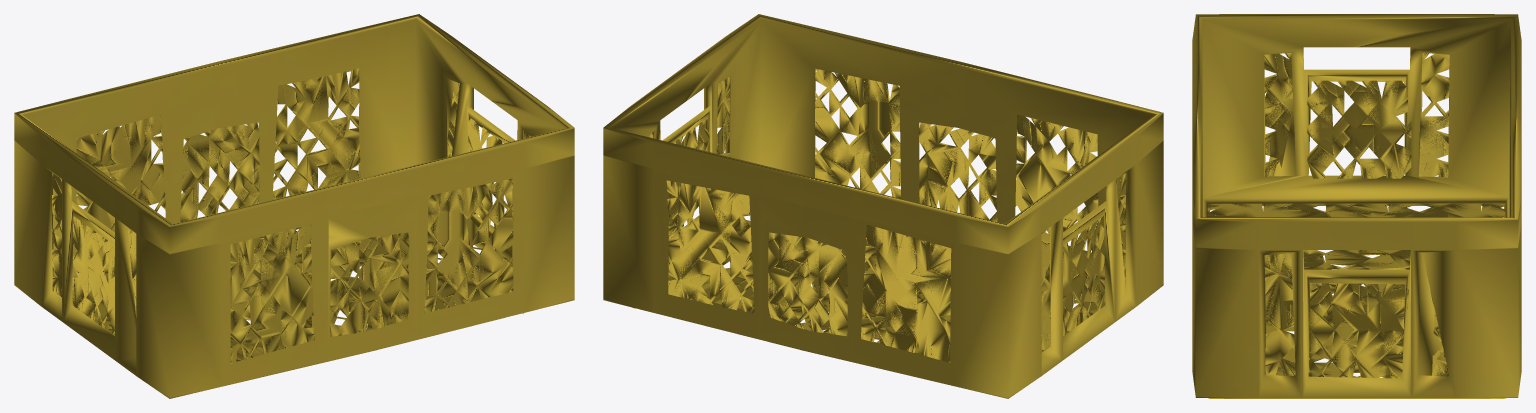
Rendered from crate_yellow_a01.glb.
The picture shows the model from 3 angles, left to right: view 1: azimuth 30°, elevation 25°; view 2: azimuth 150°, elevation 25°; view 3: azimuth 270°, elevation 25°; orthographic projection. The views are drawn at different scales.
Parts seen in each view (by area): view 1: sm_crate_a01_mesh_00; view 2: sm_crate_a01_mesh_00; view 3: sm_crate_a01_mesh_00.
Part boxes in pixels (x1,y1,x2,y2): sm_crate_a01_mesh_00: [14, 14, 574, 398]; sm_crate_a01_mesh_00: [603, 14, 1163, 398]; sm_crate_a01_mesh_00: [1192, 14, 1521, 398].
Bounding box in the file's own units: 0.6051 × 0.2521 × 0.4051.
1 material, 1 textured.
